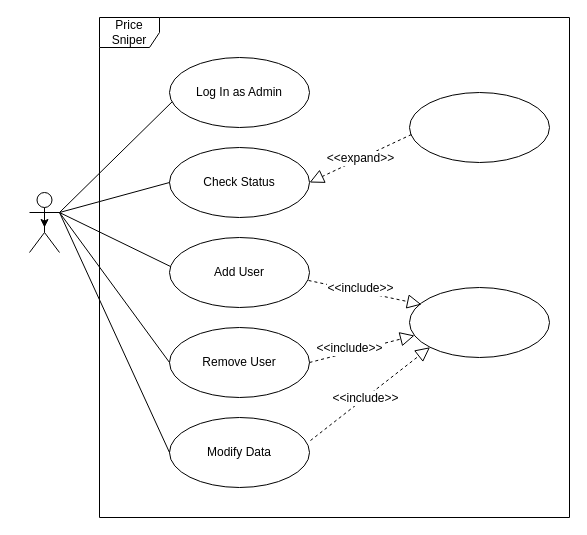
This 587x535 diagram has some shape labels left out. Each missing label, with the centre of its shape:
"Developer" belongs at pixel 44 222.
"Spot Issue" belongs at pixel 479 127.
"Update Data / Save Changes" belongs at pixel 479 322.
